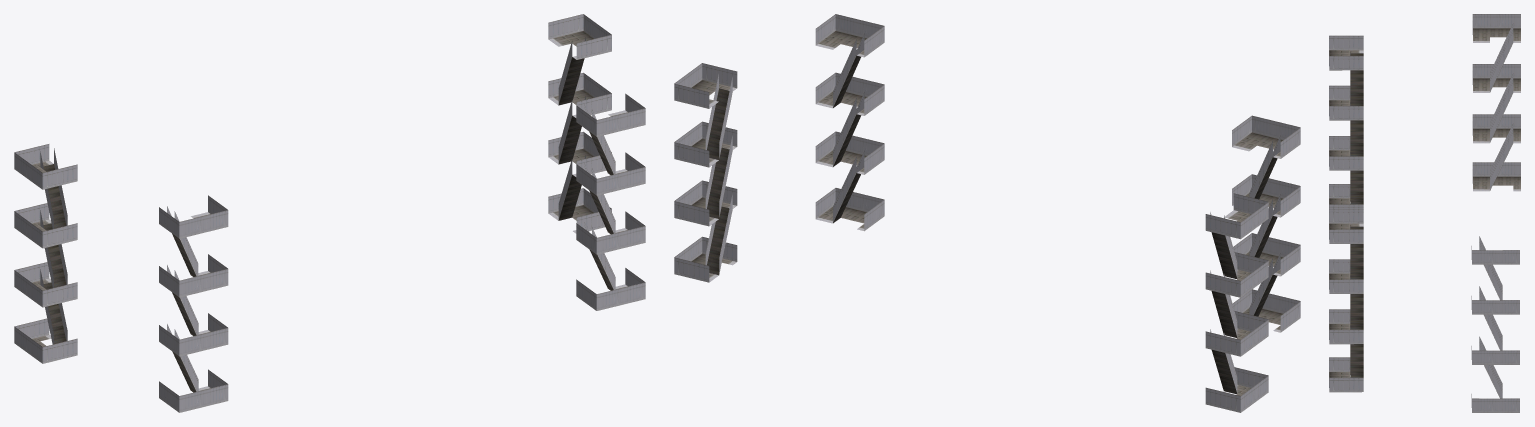
Rendered from fescape_sfw01.obj.
3 renders of one model, left to right at view 1: azimuth 30°, elevation 25°; view 2: azimuth 150°, elevation 25°; view 3: azimuth 270°, elevation 25°, orthographic. The views are drawn at different scales.
Visible parts, largest first — view 1: fescape_sfw01; view 2: fescape_sfw01; view 3: fescape_sfw01.
Boxes of the visible parts, x1,y1,x2,y2 form: fescape_sfw01: (14, 14, 645, 412); fescape_sfw01: (674, 14, 1300, 412); fescape_sfw01: (1329, 14, 1520, 412).
Size of the model in its own units: 43.44 by 13.95 by 14.91.
1 material, 1 textured.
